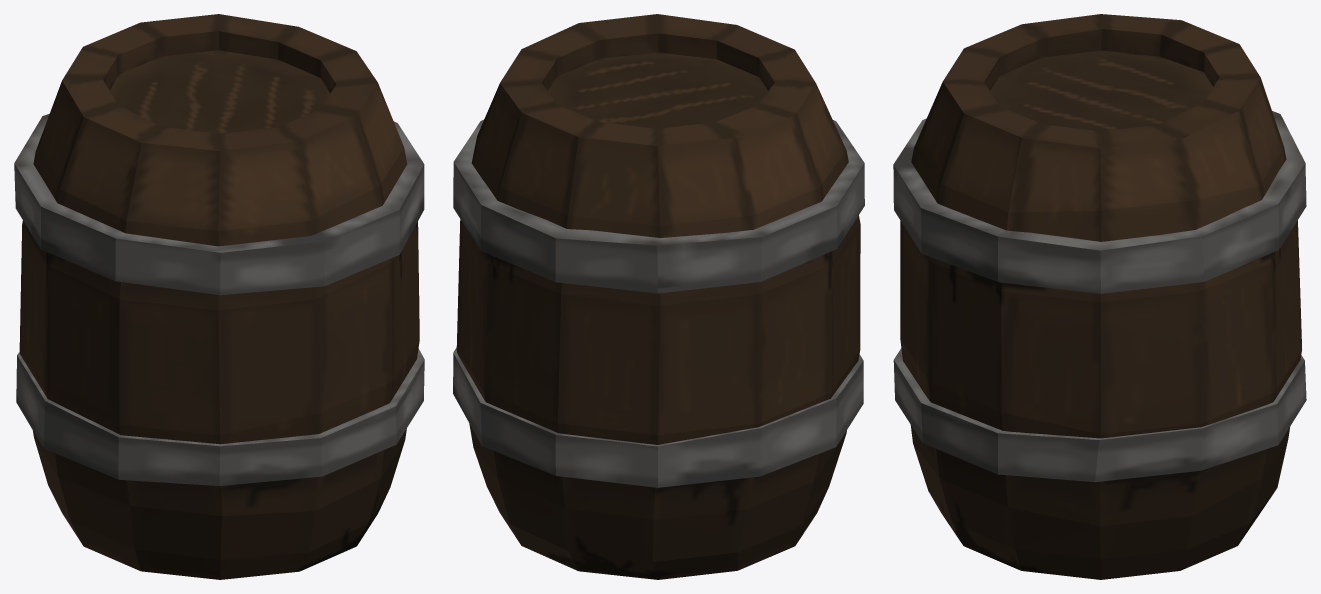
The model's file is Barrel.fbx.
3 views of the same model, side by side, from view 1: azimuth 30°, elevation 25°; view 2: azimuth 150°, elevation 25°; view 3: azimuth 270°, elevation 25° (orthographic).
Parts seen in each view (by area): view 1: Barrel, Iron Parts; view 2: Barrel, Iron Parts; view 3: Barrel, Iron Parts.
Part boxes in pixels (x1,y1,x2,y2): Barrel: (19, 14, 419, 579); Iron Parts: (14, 114, 424, 485); Barrel: (456, 14, 860, 579); Iron Parts: (453, 119, 864, 487); Barrel: (900, 14, 1301, 579); Iron Parts: (893, 111, 1306, 482).
Bounding box in the file's own units: 1.69 × 1.97 × 1.69.
